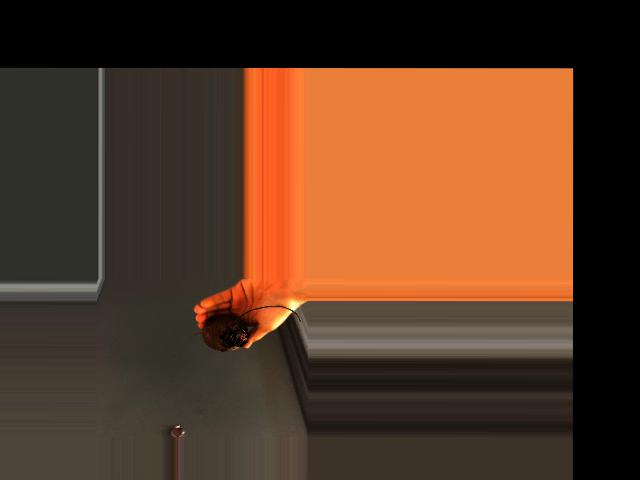beet: (188, 304, 299, 350)
